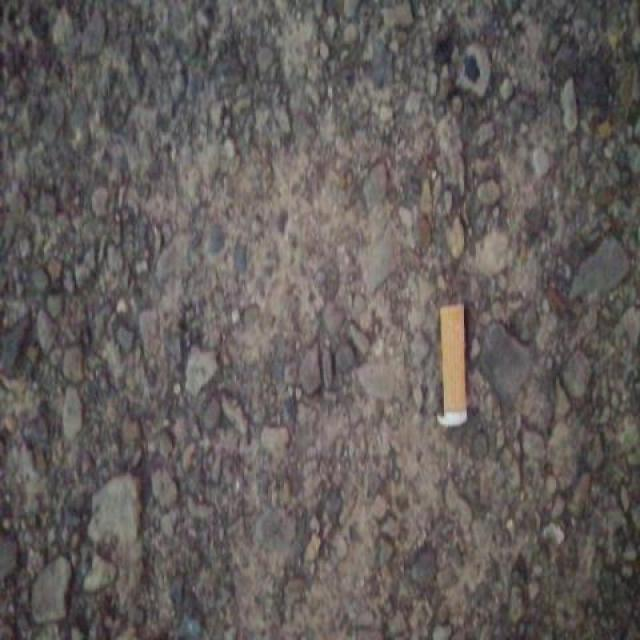non-organic waste: (434, 300, 473, 428)
